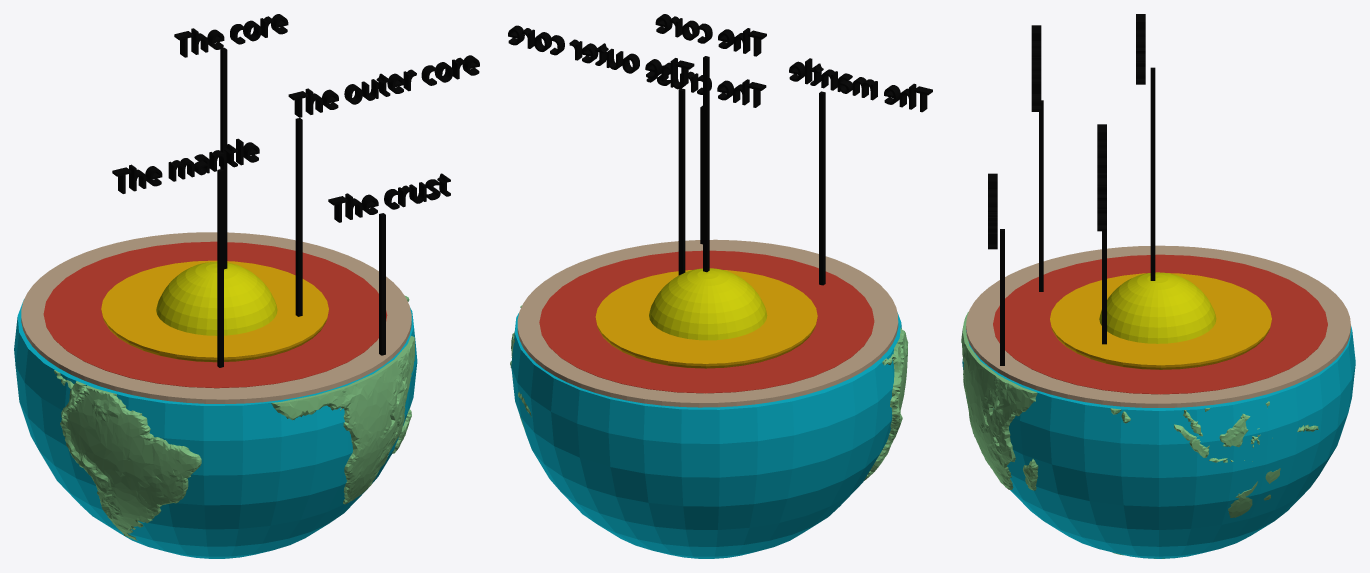
Rendered from asset.glb.
The picture shows the model from 3 angles, left to right: view 1: azimuth 30°, elevation 25°; view 2: azimuth 150°, elevation 25°; view 3: azimuth 270°, elevation 25°; orthographic projection. The views are drawn at different scales.
Parts seen in each view (by area): view 1: Mesh_Mesh_head_geo.001_lambert2SG.001; view 2: Mesh_Mesh_head_geo.001_lambert2SG.001; view 3: Mesh_Mesh_head_geo.001_lambert2SG.001.
Part boxes in pixels (x1,y1,x2,y2): Mesh_Mesh_head_geo.001_lambert2SG.001: [14, 14, 479, 558]; Mesh_Mesh_head_geo.001_lambert2SG.001: [508, 14, 932, 558]; Mesh_Mesh_head_geo.001_lambert2SG.001: [961, 14, 1355, 558].
Size of the model in its own units: 230 by 283 by 200.
